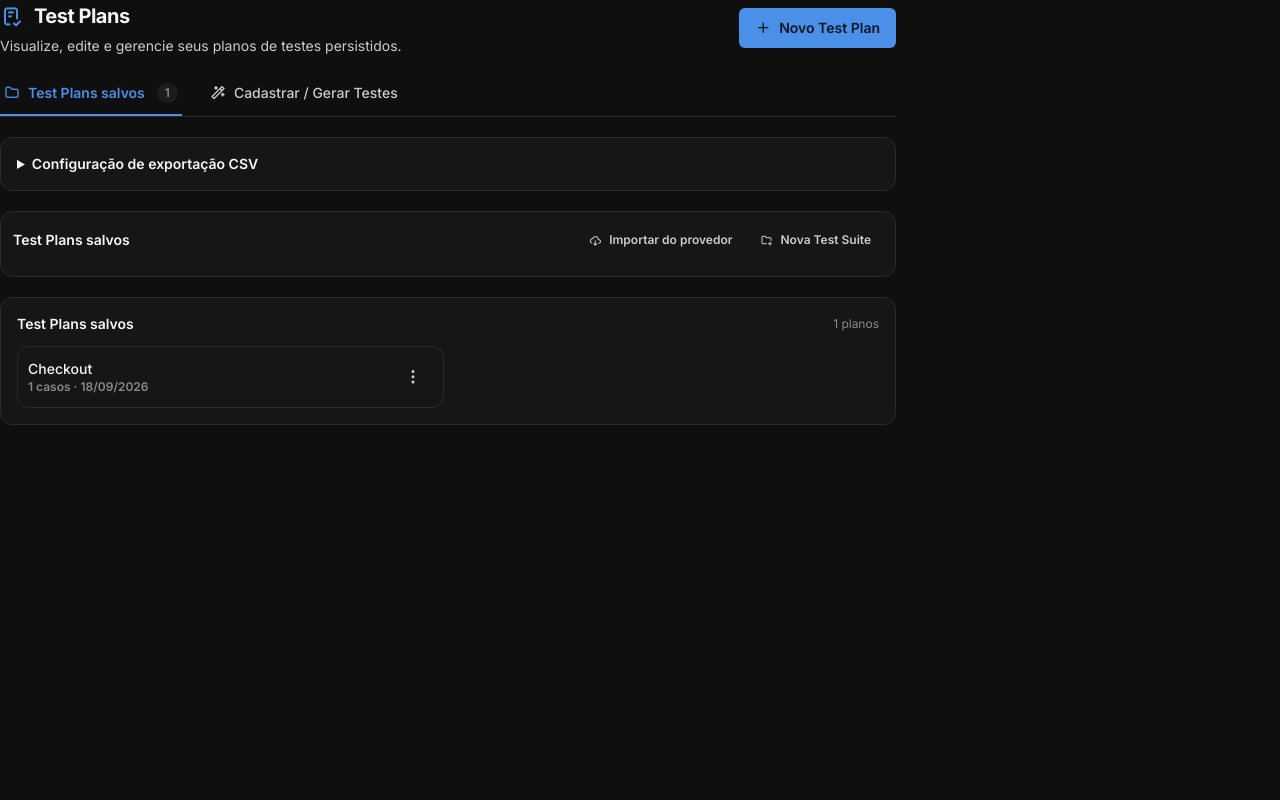
TestPlansView case editor › edits the title and the scenario and saves the case
Click the button with aria-label "Abrir Test Plan Checkout" at (60, 368), box [28,359,393,395]
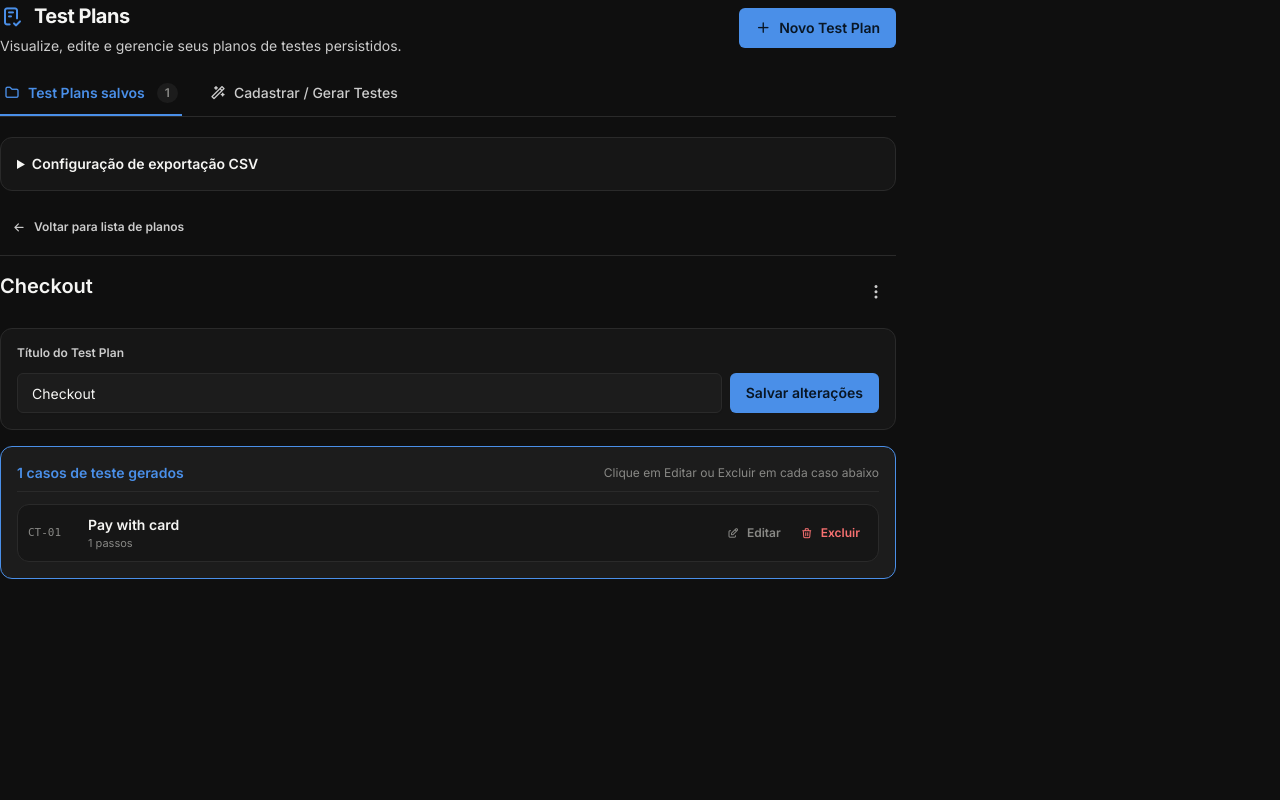
Click the button with test id "btn-edit-test-CT-01" at (754, 533), box [719,519,789,547]
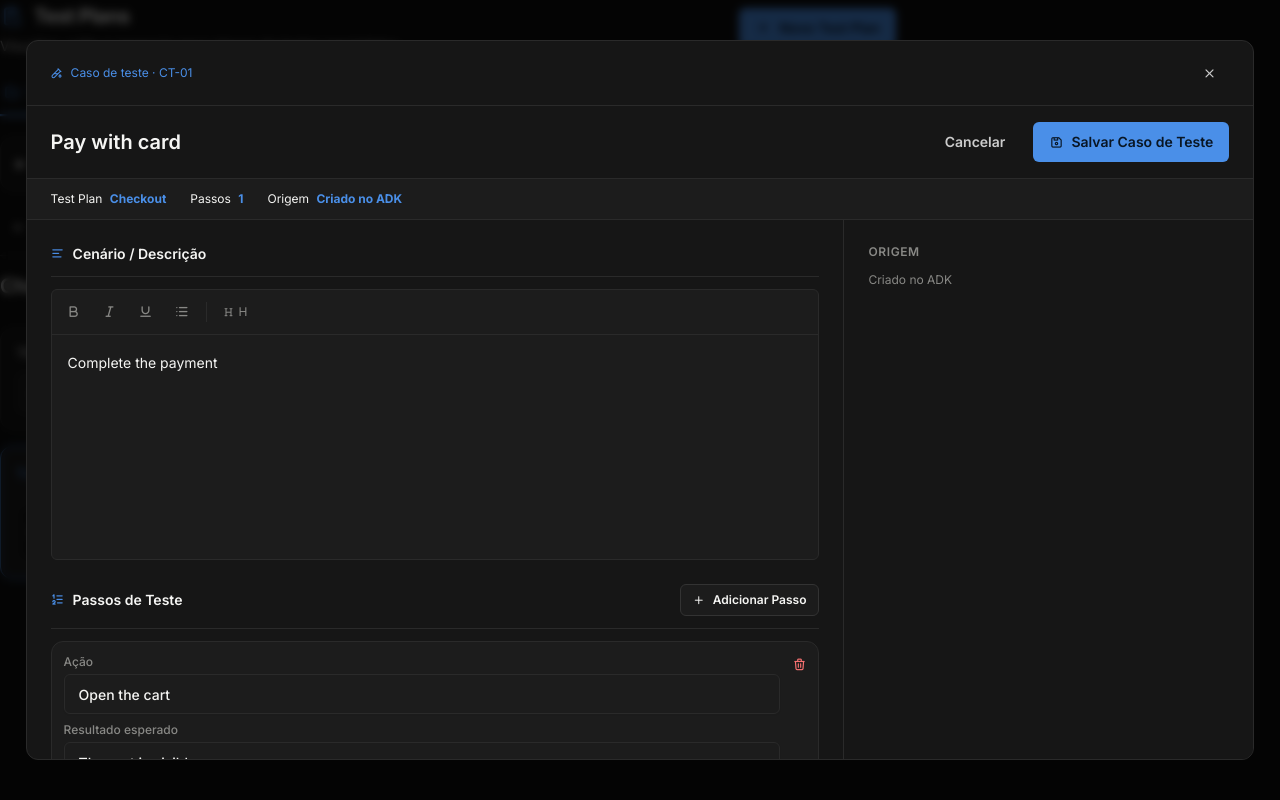
Replace the text in the field with test id "input-edit-test-title" with "Pay with Pix" at (484, 142), box [51,122,917,162]
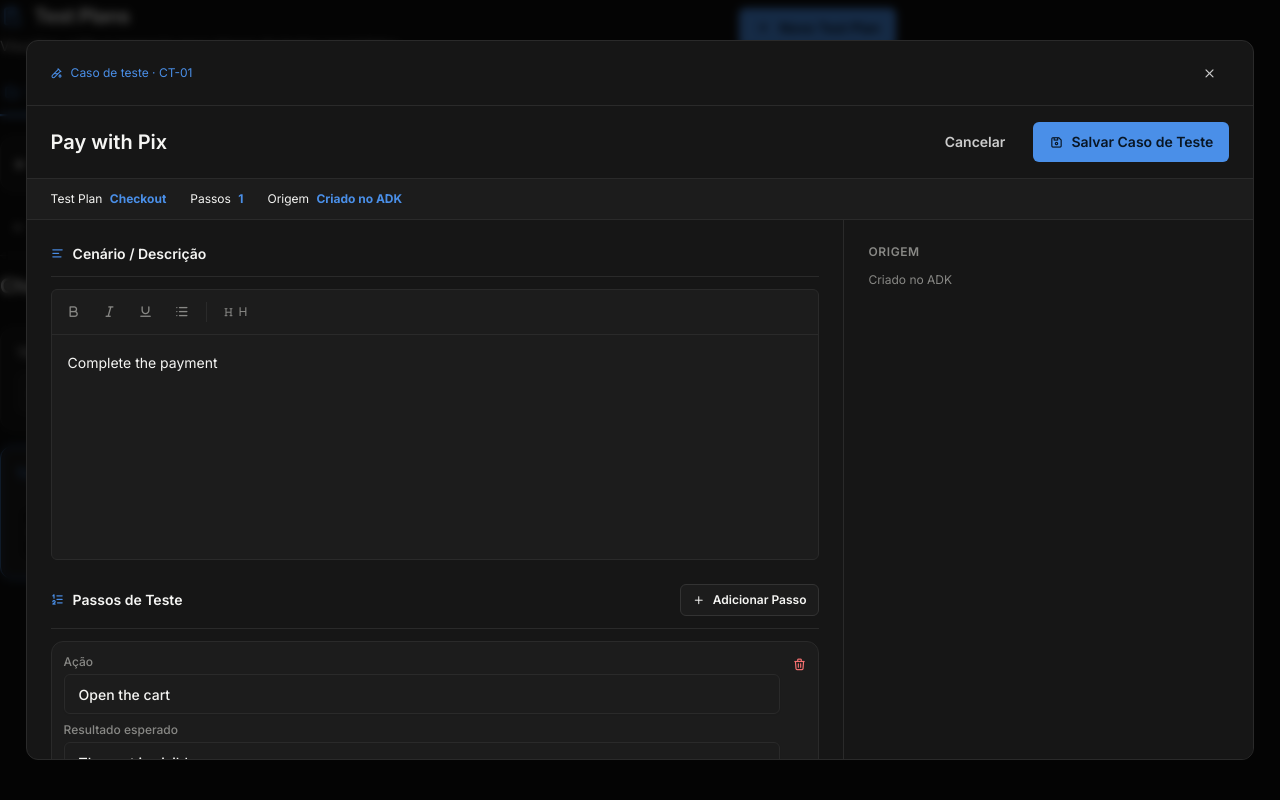
Click the button with test id "btn-save-test-case-modal" at (1131, 142), box [1033,122,1229,162]
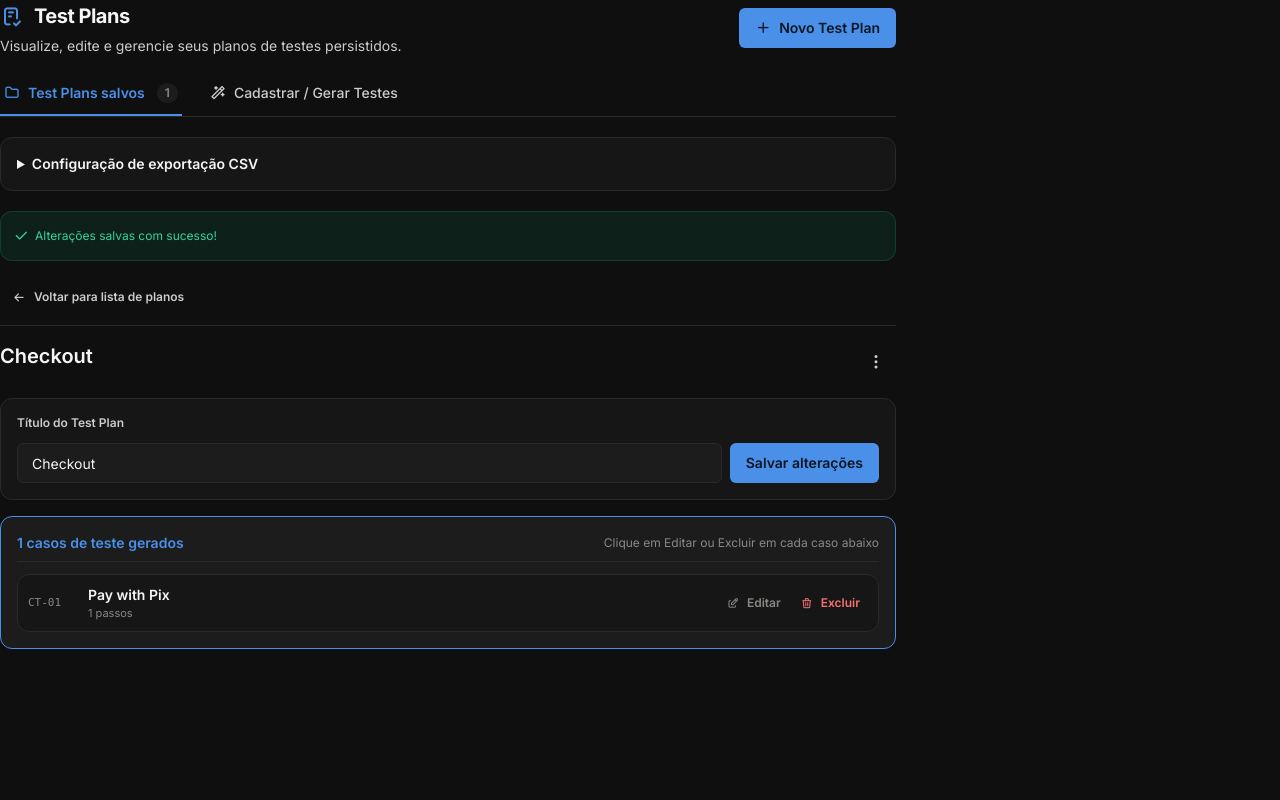
expect the button with test id "btn-save-test-case-modal" is gone: met
expect the text "Pay with Pix" is shown: met, box [88,586,170,603]
